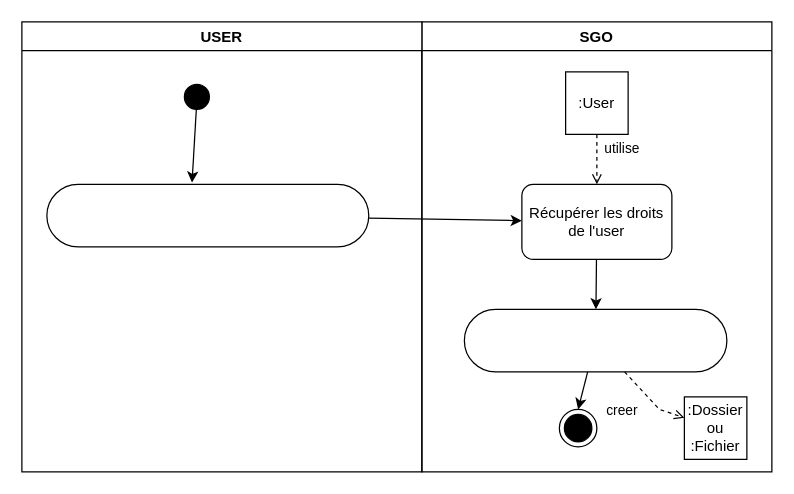
Image size: 794x494. Some labels were removed from this diagram. Each missing label, with the centre of its shape:
"afficher le dossier ou le fichier a lire" belongs at point 595,340.
"demander à éxecuter un fichier" belongs at point 207,215.
